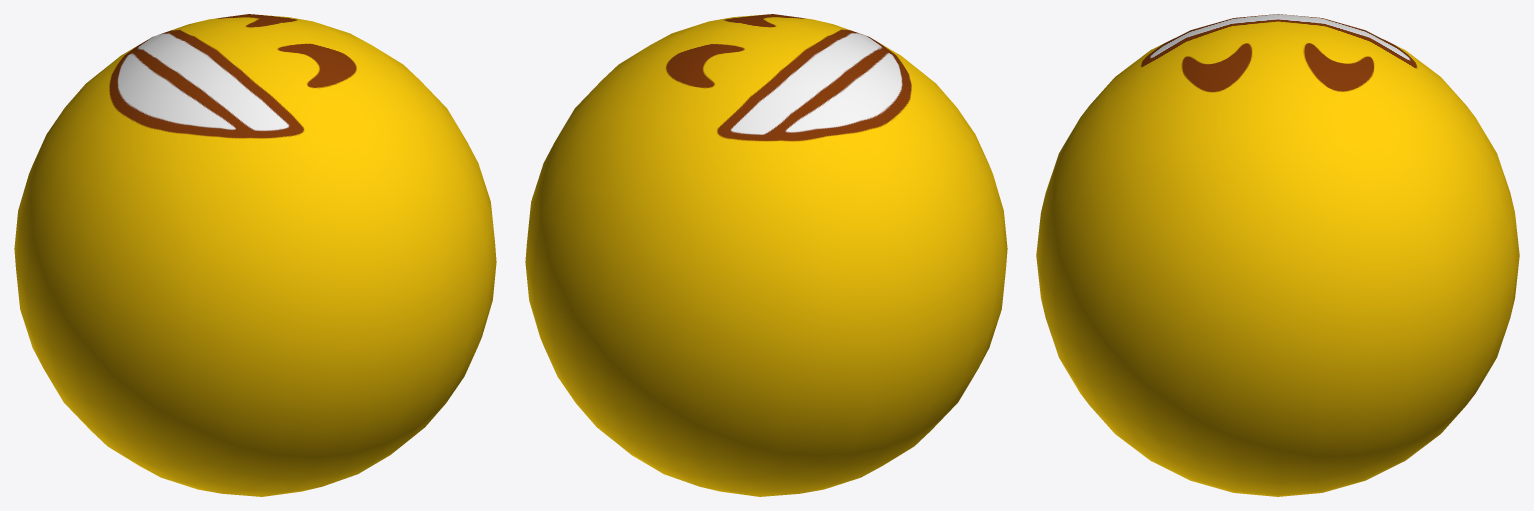
File: New_emoji_smile_whole.fbx
3 renders of one model, left to right at view 1: azimuth 30°, elevation 25°; view 2: azimuth 150°, elevation 25°; view 3: azimuth 270°, elevation 25°, orthographic.
Parts seen in each view (by area): view 1: Emoji_whole; view 2: Emoji_whole; view 3: Emoji_whole.
Boxes of the visible parts, box(x1,y1,x2,y2) form: Emoji_whole: box(14, 14, 496, 496); Emoji_whole: box(525, 14, 1007, 496); Emoji_whole: box(1036, 14, 1519, 496).
Size of the model in its own units: 693 by 693 by 693.
